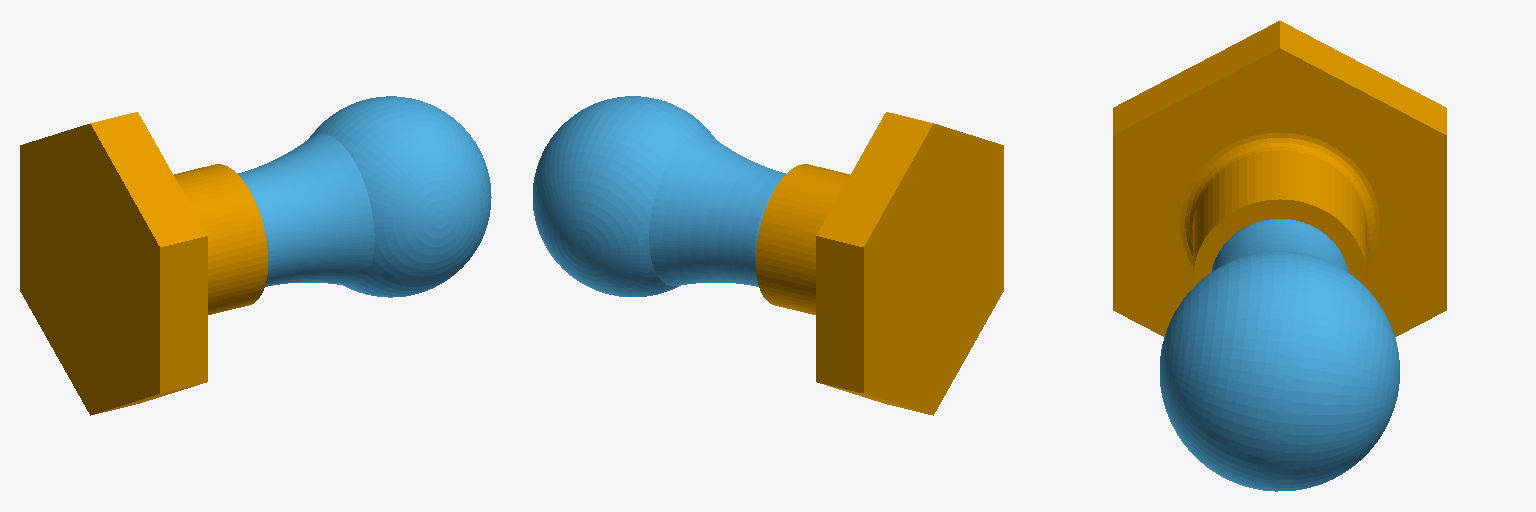
URDF robot description (Lamp_Assembly):
<?xml version='1.0' encoding='utf-8'?>
<robot name="Lamp_Assembly">
  <joint name="PrismaticJoint" type="prismatic">
    <origin xyz="-0. 0. -0." rpy="0. 0. 0." />
    <parent link="rotation_pivot" />
    <child link="lamp_pivot" />
    <axis xyz="1. 0. 0." />
    <limit lower="0." upper="0.024" effort="100.0" velocity="1.0" />
  </joint>
  <joint name="RevoluteJoint" type="continuous">
    <origin xyz="0. -0. 0." rpy="0. 0. 0." />
    <parent link="World" />
    <child link="rotation_pivot" />
    <axis xyz="1. 0. 0." />
  </joint>
  <link name="World">
    <inertial><origin xyz="0.000000 0.000000 0.022350" rpy="0 0 0" /><mass value="0.3005" /><inertia ixx="0.000195784" ixy="0" ixz="0" iyy="0.000244368" iyz="0" izz="0.000340094" /></inertial><visual>
      <origin xyz="-0.0447325 -0. 0. " rpy="0. 1.5707964 0. " />
      <geometry>
        <mesh filename="meshes/base_pivot_Mesh.obj" scale="1. 1. 1." />
      </geometry>
    </visual>
    <collision>
      <origin xyz="-0.0447325 -0. 0. " rpy="0. 1.5707964 0. " />
      <geometry>
        <mesh filename="meshes/base_pivot_Mesh.obj" scale="1. 1. 1." />
      </geometry>
    </collision>
  </link>
  <link name="lamp_pivot">
    <!-- CAD mass is 22 g; scaled to 0.20 kg so GPU PhysX grasp contacts stay stable. -->
    <inertial>
      <origin xyz="0.030000 0.000000 0.000000" rpy="0 0 0" />
      <mass value="0.20" />
      <inertia ixx="7.84e-05" ixy="0" ixz="0" iyy="1.46e-04" iyz="0" izz="1.46e-04" />
    </inertial>
    <visual>
      <origin xyz="0. 0. 0." rpy="-1.5434489 -1.4170299 1.5429671" />
      <geometry>
        <mesh filename="meshes/Corpo1_Mesh.obj" scale="1. 1. 1." />
      </geometry>
    </visual>
    <visual>
      <origin xyz="0. 0. 0." rpy="-1.5434489 -1.4170299 1.5429671" />
      <geometry>
        <mesh filename="meshes/tn__Corpo11_j7m1J_Mesh.obj" scale="1. 1. 1." />
      </geometry>
    </visual>
    <visual>
      <origin xyz="0. 0. 0." rpy="-1.5434489 -1.4170299 1.5429671" />
      <geometry>
        <mesh filename="meshes/tn__Corpo12_j7m1J_Mesh.obj" scale="1. 1. 1." />
      </geometry>
    </visual>
    <!-- Primitive colliders along link +X. CAD shells as convex hulls fill the
         bulb and generate thousands of contact patches on grasp. -->
    <collision>
      <origin xyz="-0.015 0. 0." rpy="0. 1.5707964 0." />
      <geometry>
        <cylinder radius="0.014" length="0.030" />
      </geometry>
    </collision>
    <collision>
      <origin xyz="0.035 0. 0." rpy="0. 1.5707964 0." />
      <geometry>
        <cylinder radius="0.028" length="0.080" />
      </geometry>
    </collision>
  </link>
  <link name="rotation_pivot">
    <inertial><origin xyz="0.000000 0.000000 0.000000" rpy="0 0 0" /><mass value="0.0500" /><inertia ixx="1e-05" ixy="0" ixz="0" iyy="1e-05" iyz="0" izz="1e-05" /></inertial><visual>
      <origin xyz="-0.0390718 0. -0. " rpy="0. 1.5707964 0. " />
      <geometry>
        <cylinder radius="0.005" length="0.01" />
      </geometry>
    </visual>
    <collision>
      <origin xyz="-0.0390718 0. -0. " rpy="0. 1.5707964 0. " />
      <geometry>
        <cylinder radius="0.005" length="0.01" />
      </geometry>
    </collision>
  </link>
</robot>

--- Facts derived from the render (not from the file) ---
The picture shows the robot from 3 angles, left to right: view 1: azimuth 30°, elevation 25°; view 2: azimuth 150°, elevation 25°; view 3: azimuth 270°, elevation 25°; orthographic projection.
Model Lamp_Assembly with 3 links and 2 joints (1 continuous, 1 prismatic), rooted at World, posed all joints at 0.
Visible links, largest first — view 1: World, lamp_pivot; view 2: World, lamp_pivot; view 3: World, lamp_pivot.
Boxes of the visible links, x1=… form: World: x1=20, y1=112, x2=267, y2=415; lamp_pivot: x1=238, y1=96, x2=491, y2=297; World: x1=756, y1=112, x2=1003, y2=415; lamp_pivot: x1=533, y1=96, x2=785, y2=296; World: x1=1113, y1=21, x2=1446, y2=336; lamp_pivot: x1=1160, y1=219, x2=1399, y2=491.
Size in the robot's own frame: 0.1222 by 0.0763 by 0.0881 metres.
Meshes: 4 distinct files referenced, 4 mesh visuals loaded (4 OBJ).
